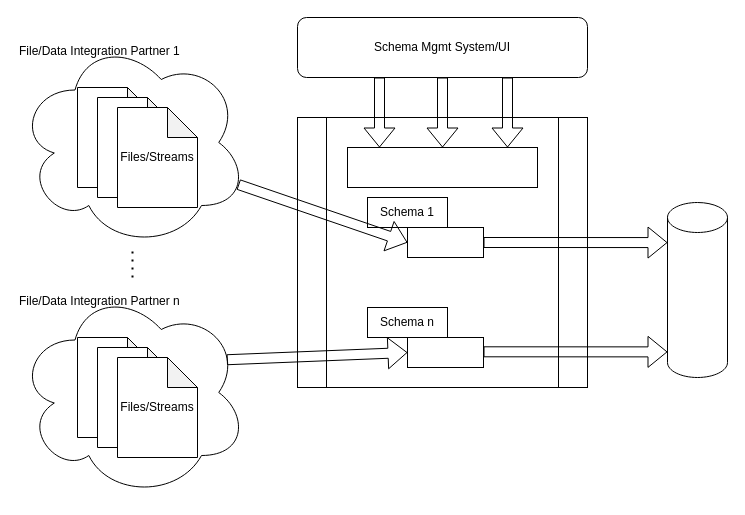
This 745x515 diagram has some shape labels left out. The box of each missing label's shape, as (x1, y1, x2, y2) in pixels:
Schema Loading/Refresh Cache: (346, 146, 538, 188)
transform 1: (406, 226, 484, 258)
transform n: (406, 336, 484, 368)
